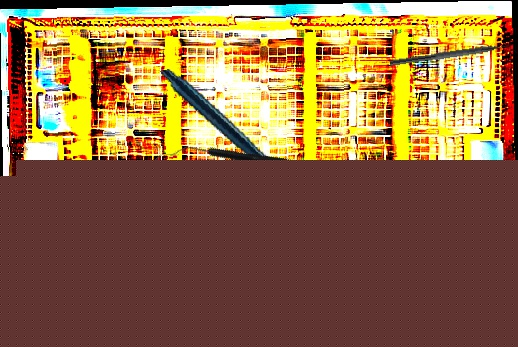Chopper: (168, 77, 392, 260), (7, 142, 182, 304), (389, 40, 518, 75)
Handpiece: (160, 48, 309, 234)
Pusher: (317, 221, 441, 293)
